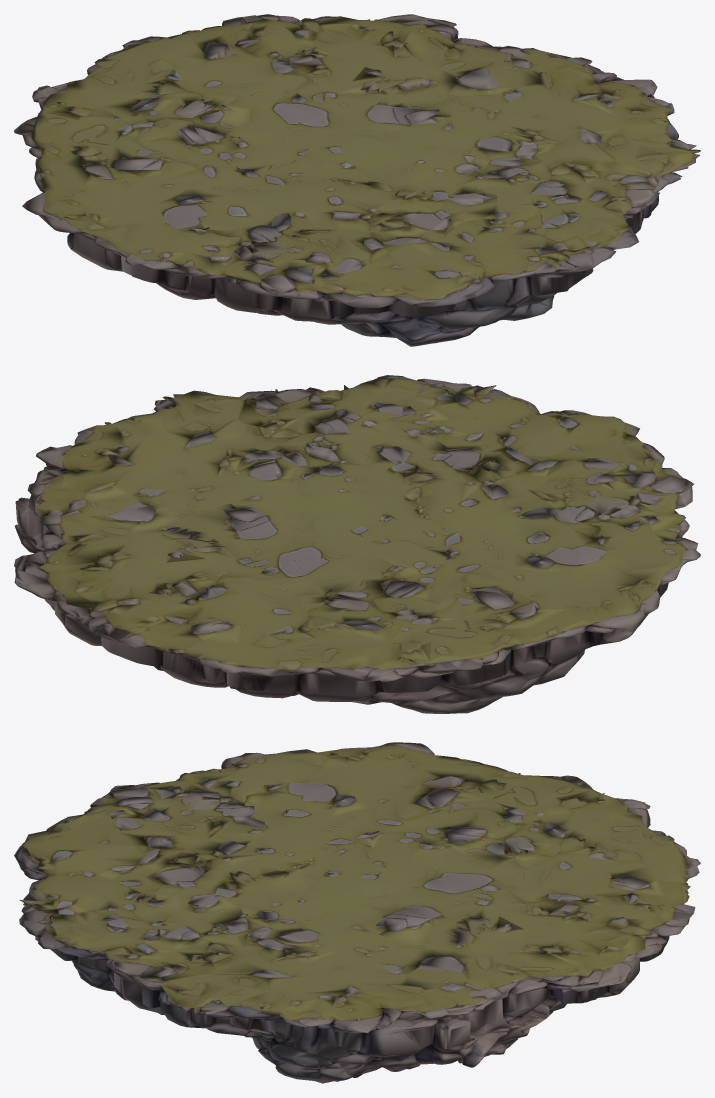
The model's file is island.glb.
The picture shows the model from 3 angles, top to bottom: view 1: azimuth 30°, elevation 25°; view 2: azimuth 150°, elevation 25°; view 3: azimuth 270°, elevation 25°; orthographic projection. The views are drawn at different scales.
Parts seen in each view (by area): view 1: tripo_node_b2466ae3-030e-4e0a-80db-5bceeb19bbb4; view 2: tripo_node_b2466ae3-030e-4e0a-80db-5bceeb19bbb4; view 3: tripo_node_b2466ae3-030e-4e0a-80db-5bceeb19bbb4.
Part boxes in pixels (x1=…): tripo_node_b2466ae3-030e-4e0a-80db-5bceeb19bbb4: x1=14, y1=14, x2=700, y2=346; tripo_node_b2466ae3-030e-4e0a-80db-5bceeb19bbb4: x1=14, y1=375, x2=700, y2=713; tripo_node_b2466ae3-030e-4e0a-80db-5bceeb19bbb4: x1=14, y1=742, x2=700, y2=1083.
Size of the model in its own units: 2 by 0.3536 by 2.
Materials: 1 (1 with a texture image).
